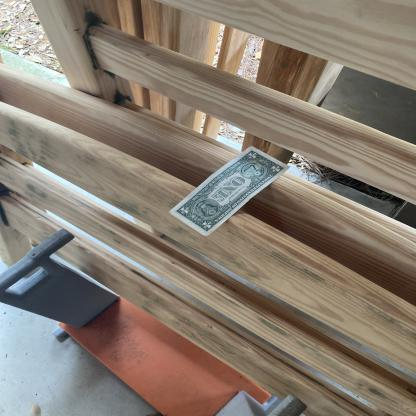one-back: (168, 146, 292, 238)
